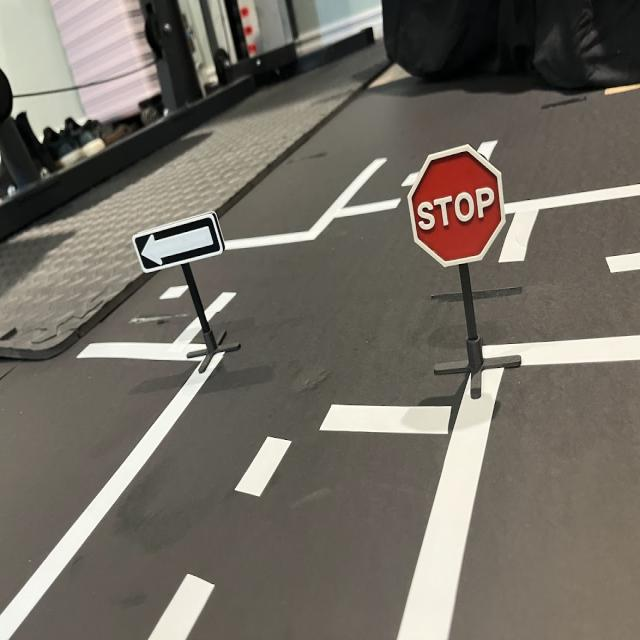sign_oneway_left: (131, 206, 229, 277)
sign_stop: (407, 143, 508, 269)
